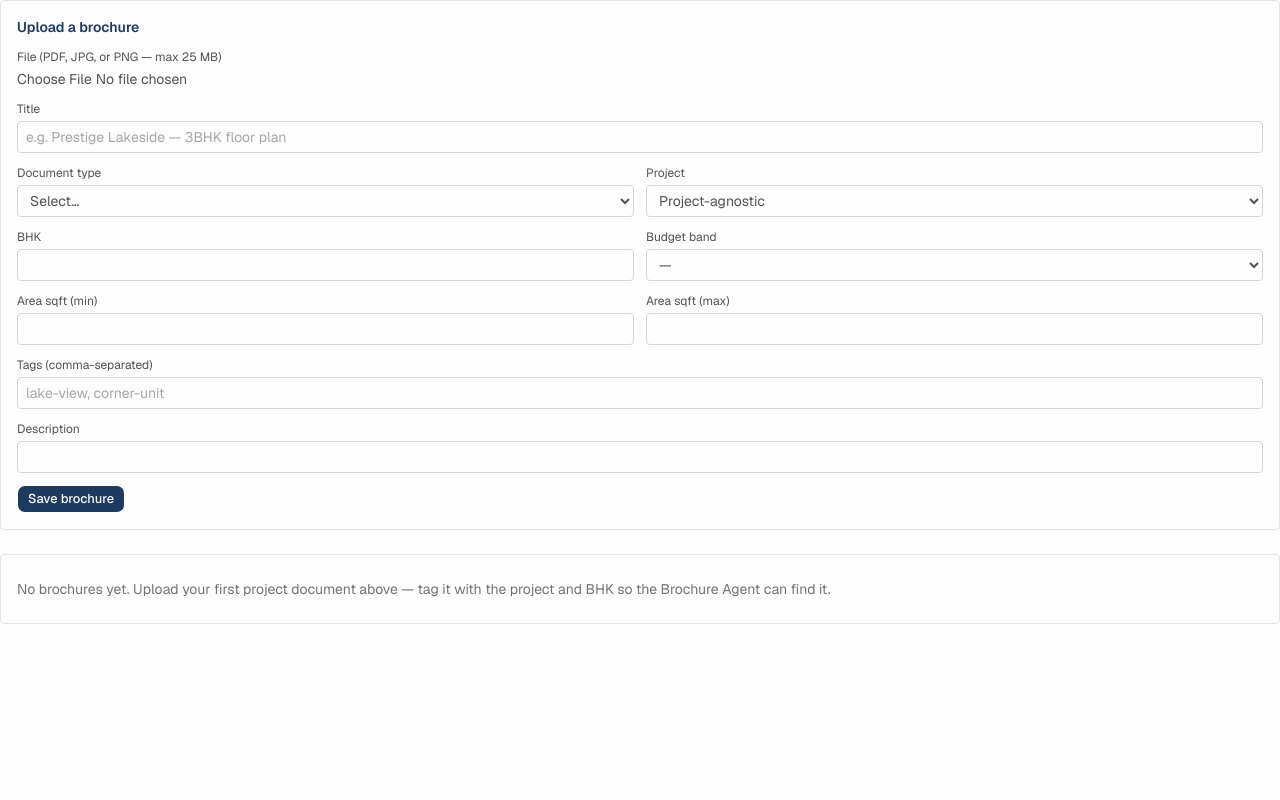
<BrochureManager> › blocks save with a clear error when no file is chosen
Click the button with test id "brochure-save-btn" at (71, 499), box [17,485,125,513]
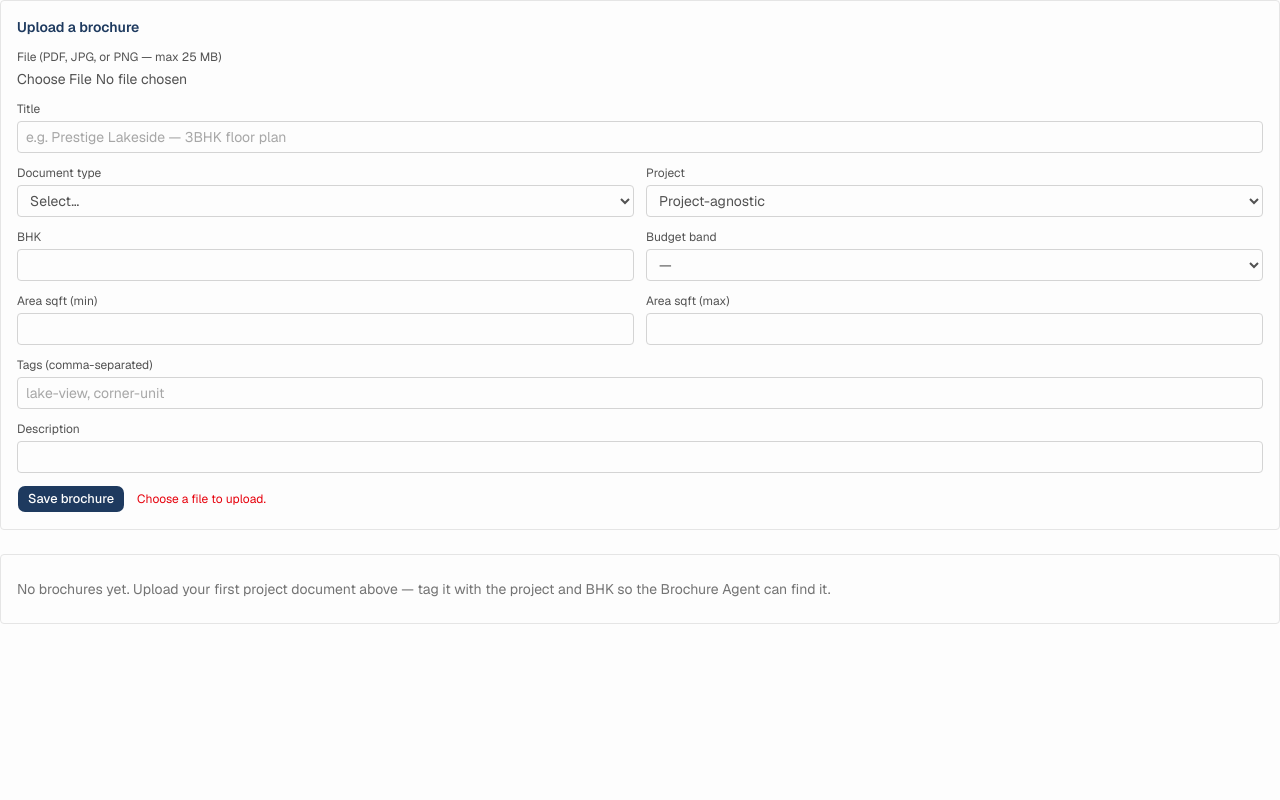
Expected: the message with test id "brochure-upload-error" shows "Choose a file", [137,491,266,507]
